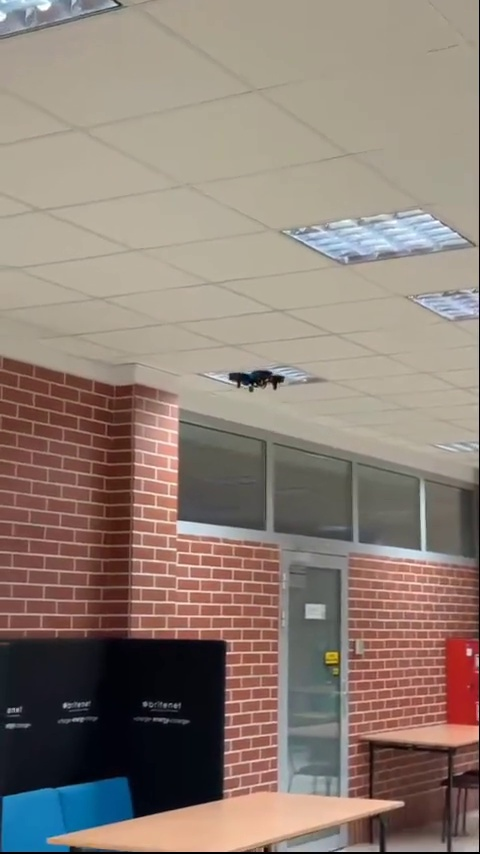drone: (226, 369, 286, 391)
